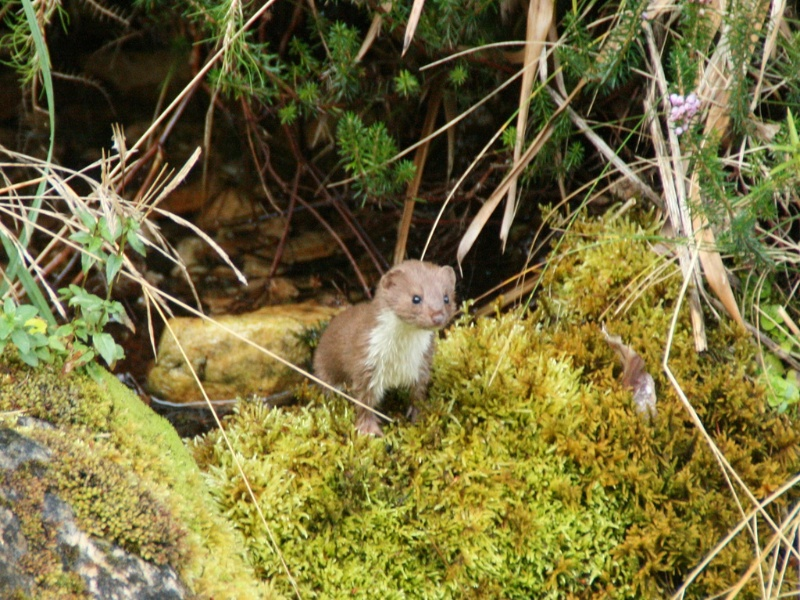minkish: (304, 254, 466, 441)
